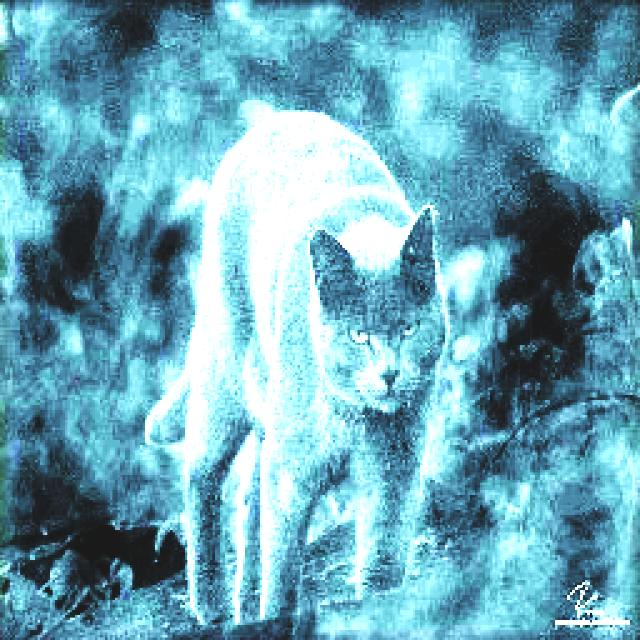cat: (149, 100, 458, 629)
